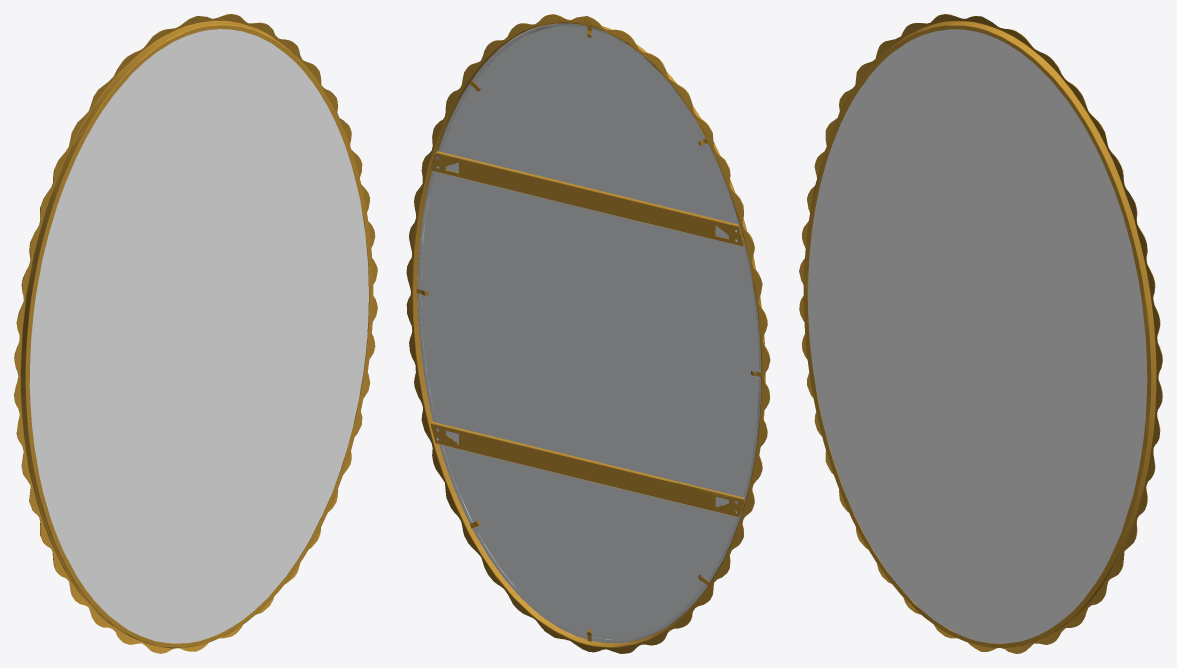
Rendered from daggkaprifol_lustro_00617922.glb.
The picture shows the model from 3 angles, left to right: view 1: azimuth 30°, elevation 25°; view 2: azimuth 150°, elevation 25°; view 3: azimuth 330°, elevation 25°; orthographic projection.
Parts seen in each view (by area): view 1: daggkaprifol_lustro_00617922; view 2: daggkaprifol_lustro_00617922; view 3: daggkaprifol_lustro_00617922.
Part boxes in pixels (<box>): daggkaprifol_lustro_00617922: <box>14,14,377,653</box>; daggkaprifol_lustro_00617922: <box>406,14,770,653</box>; daggkaprifol_lustro_00617922: <box>799,14,1162,653</box>.
Bounding box in the file's own units: 0.5993 × 1 × 0.0144.
Materials: 2 (2 with a texture image).
